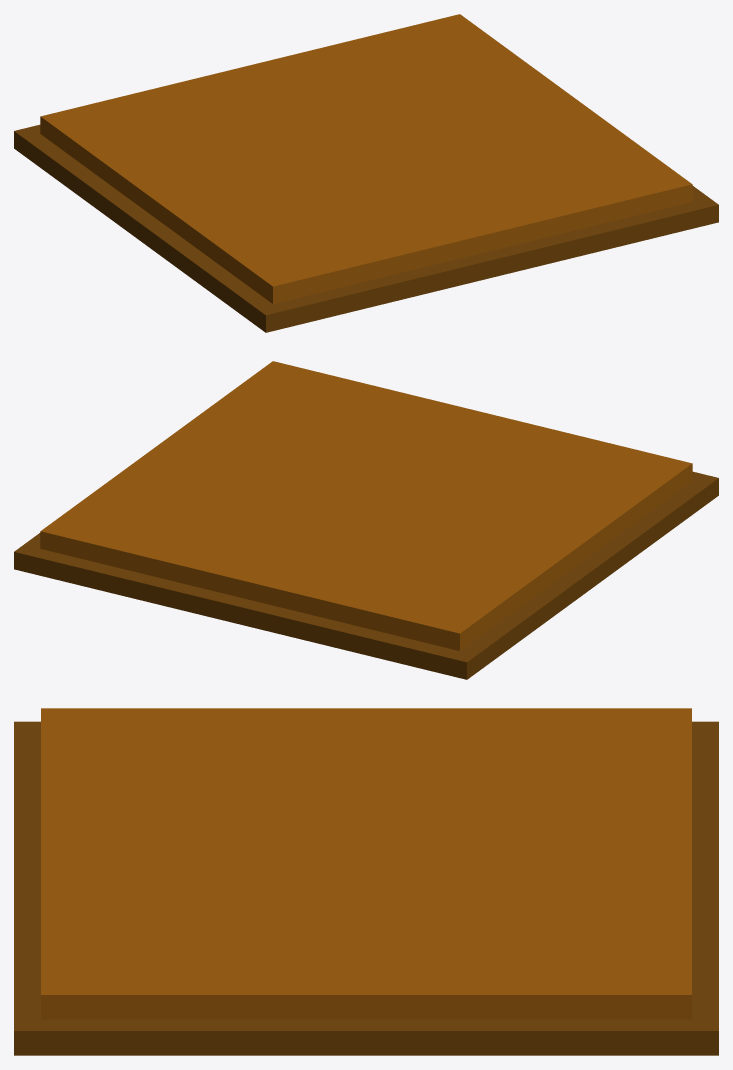
File: Path.gltf
3 renders of one model, top to bottom at view 1: azimuth 30°, elevation 25°; view 2: azimuth 150°, elevation 25°; view 3: azimuth 270°, elevation 25°, orthographic. The views are drawn at different scales.
Parts seen in each view (by area): view 1: Layer.1; view 2: Layer.1; view 3: Layer.1.
Boxes of the visible parts, <box> form: Layer.1: <box>14,14,718,332</box>; Layer.1: <box>14,361,718,679</box>; Layer.1: <box>14,708,718,1055</box>.
Size of the model in its own units: 27 by 2 by 26.
Materials: 1 (1 with a texture image).
